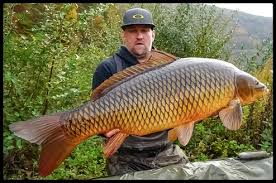carp: (7, 49, 271, 178)
